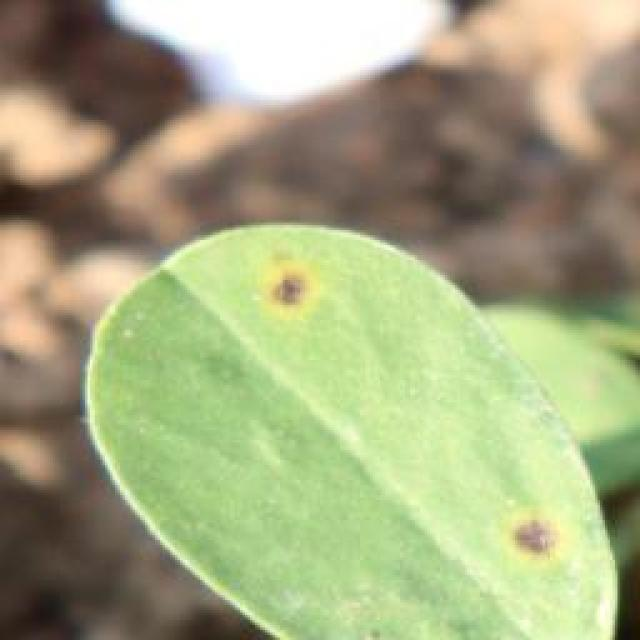Sigatoka: (239, 242, 342, 355), (487, 471, 590, 583)
